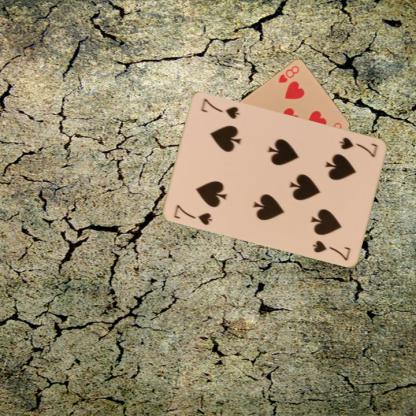7s: (172, 201, 214, 226), (337, 134, 379, 158)
8h: (276, 63, 300, 84)
